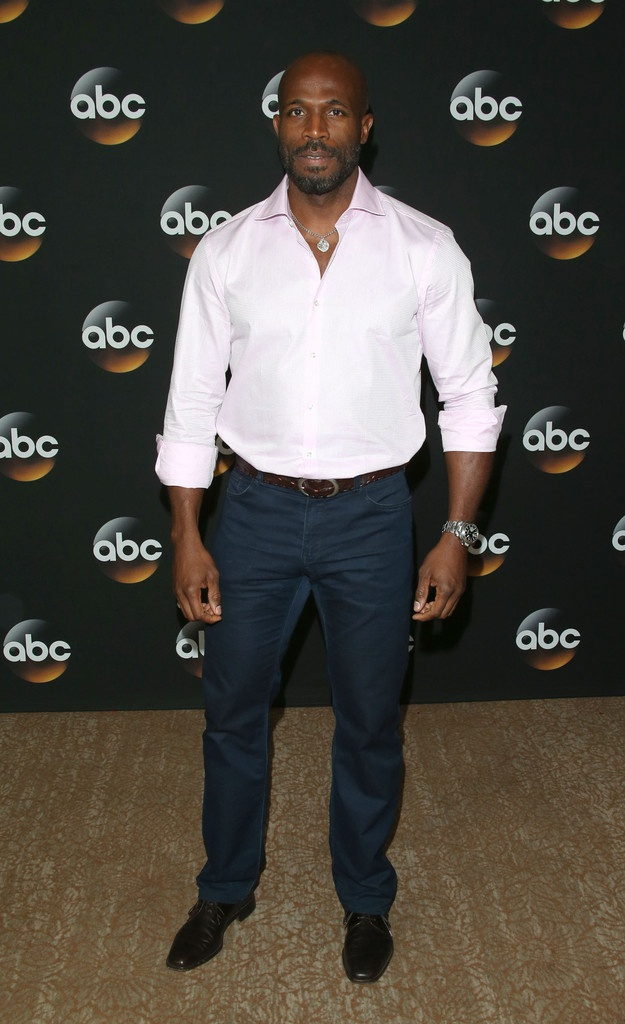bad: (259, 80, 366, 187)
